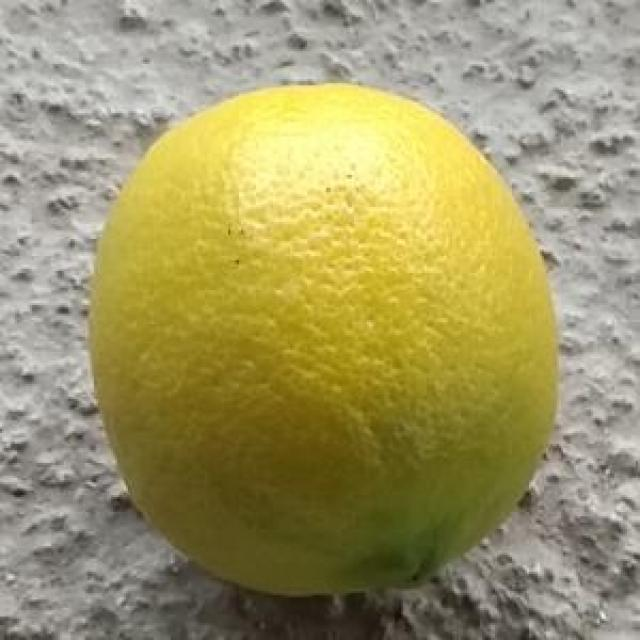lemon: (84, 76, 559, 595)
